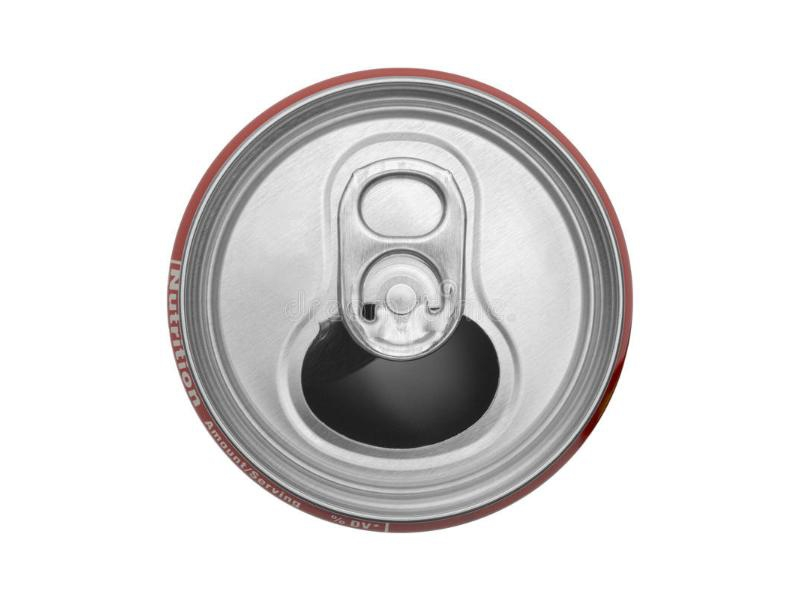can: (167, 66, 631, 532)
